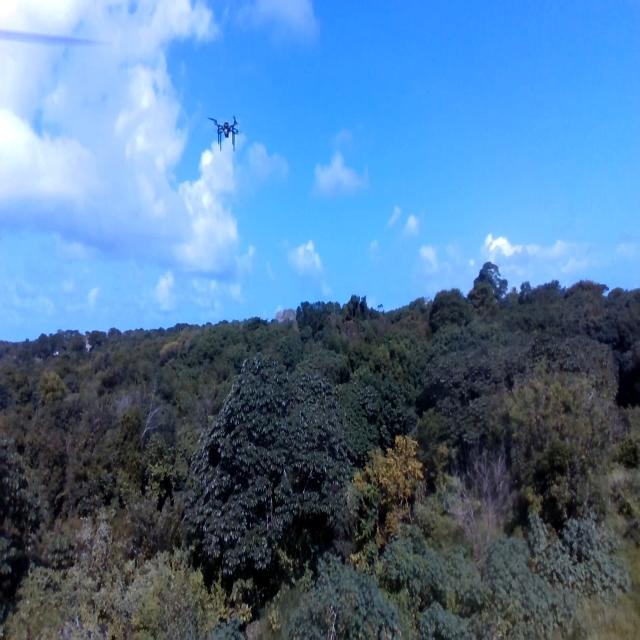-uav-: (204, 111, 244, 159)
